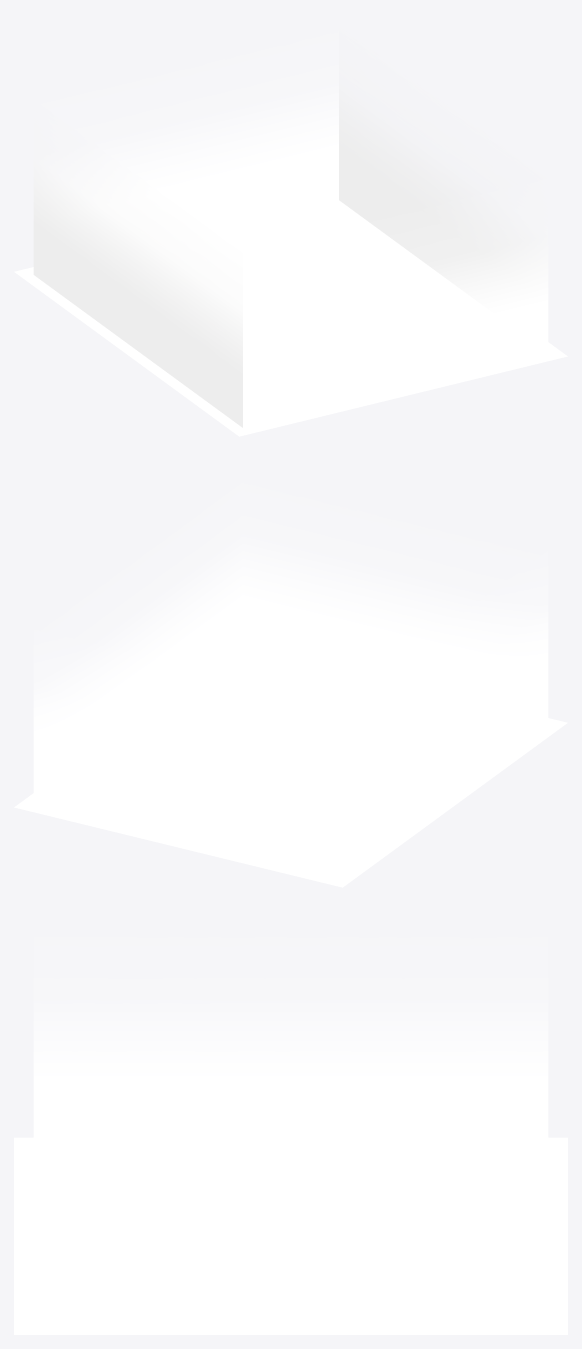
Rendered from digit_glow.glb.
3 renders of one model, top to bottom at view 1: azimuth 30°, elevation 25°; view 2: azimuth 150°, elevation 25°; view 3: azimuth 270°, elevation 25°, orthographic. The views are drawn at different scales.
Visible parts, largest first — view 1: number_highlight; view 2: number_highlight; view 3: number_highlight.
Boxes of the visible parts, x1,y1,x2,y2 form: number_highlight: [14, 65, 567, 436]; number_highlight: [14, 516, 567, 887]; number_highlight: [14, 978, 567, 1334].
Bounding box in the file's own units: 0.0907 × 0.049 × 0.1076.
1 material, 1 textured.
